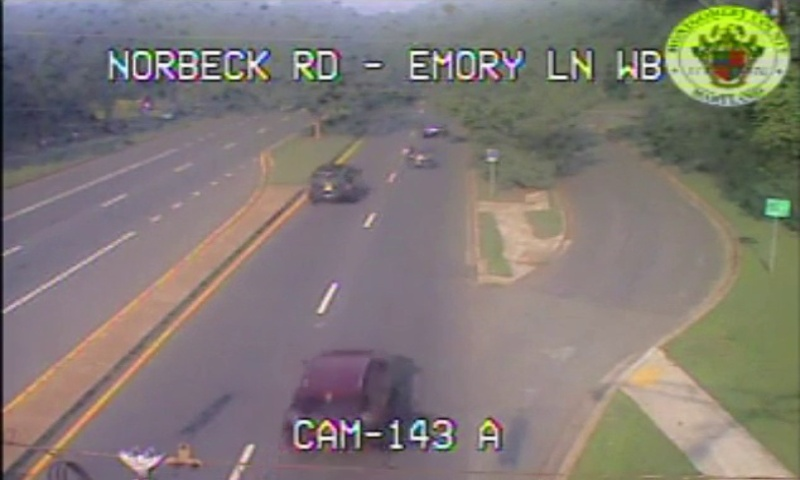car: (286, 353, 386, 451), (310, 166, 359, 204)
